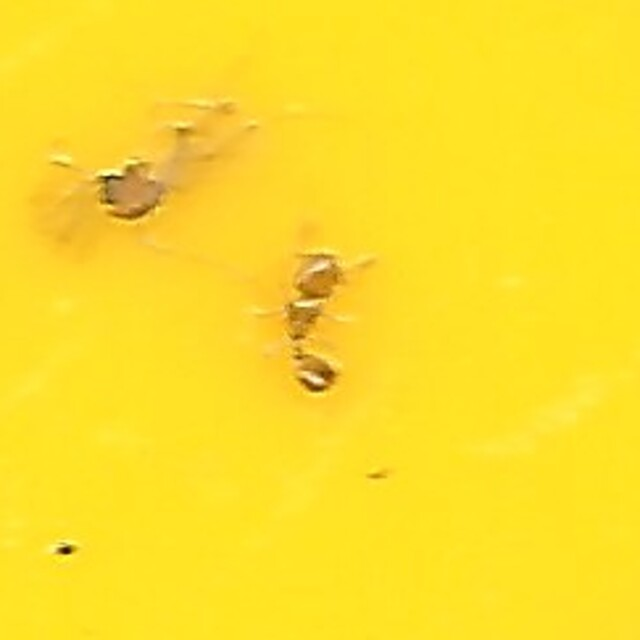Hymenoptera: (263, 238, 377, 402)
